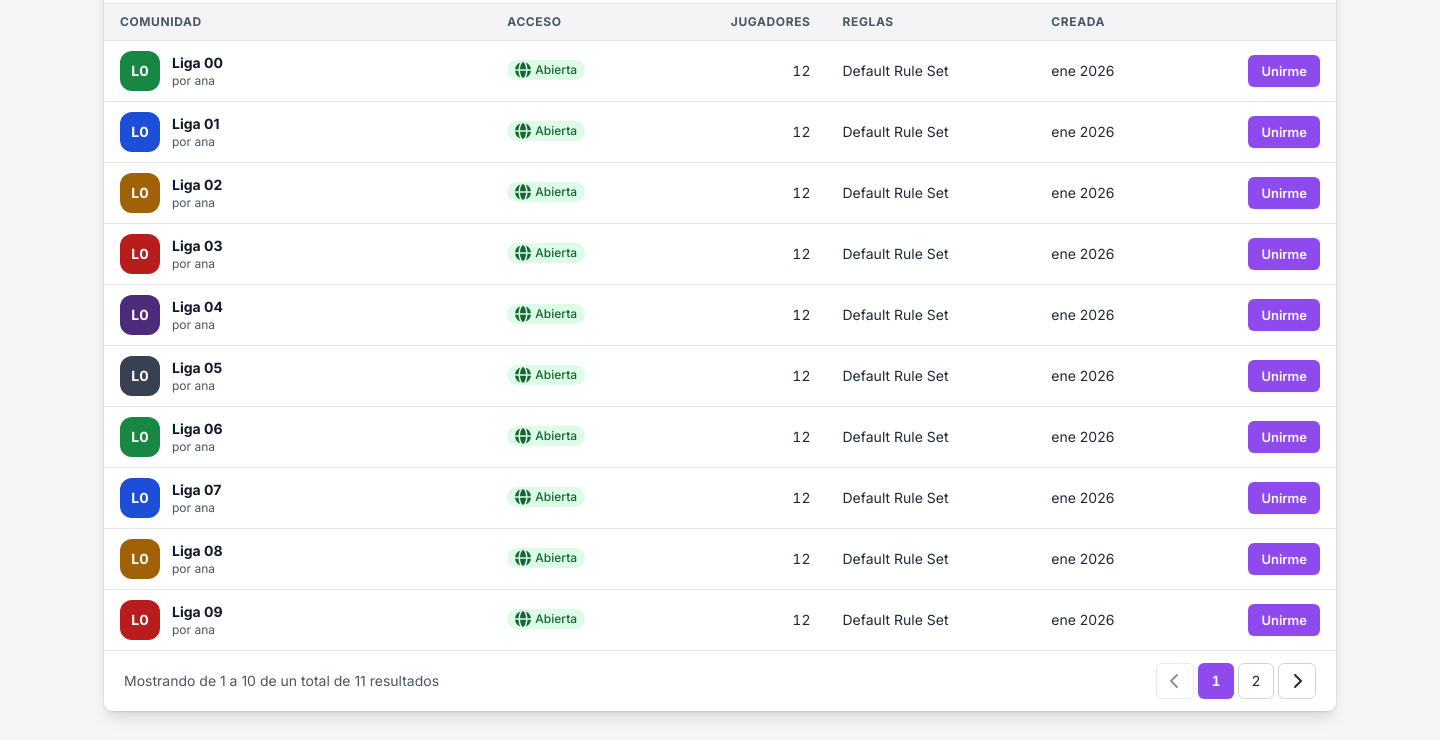
Explorar comunidades › paginates and sorts by name
The image size is (1440, 740).
(page scrolled)
Expected: the text "Mostrando de 1 a 10 de un total de 11 resultados" is shown, left=124, top=671, right=439, bottom=691
Click the button named "Siguiente" at (1297, 681), box left=1278, top=663, right=1316, bottom=699
(page scrolled)
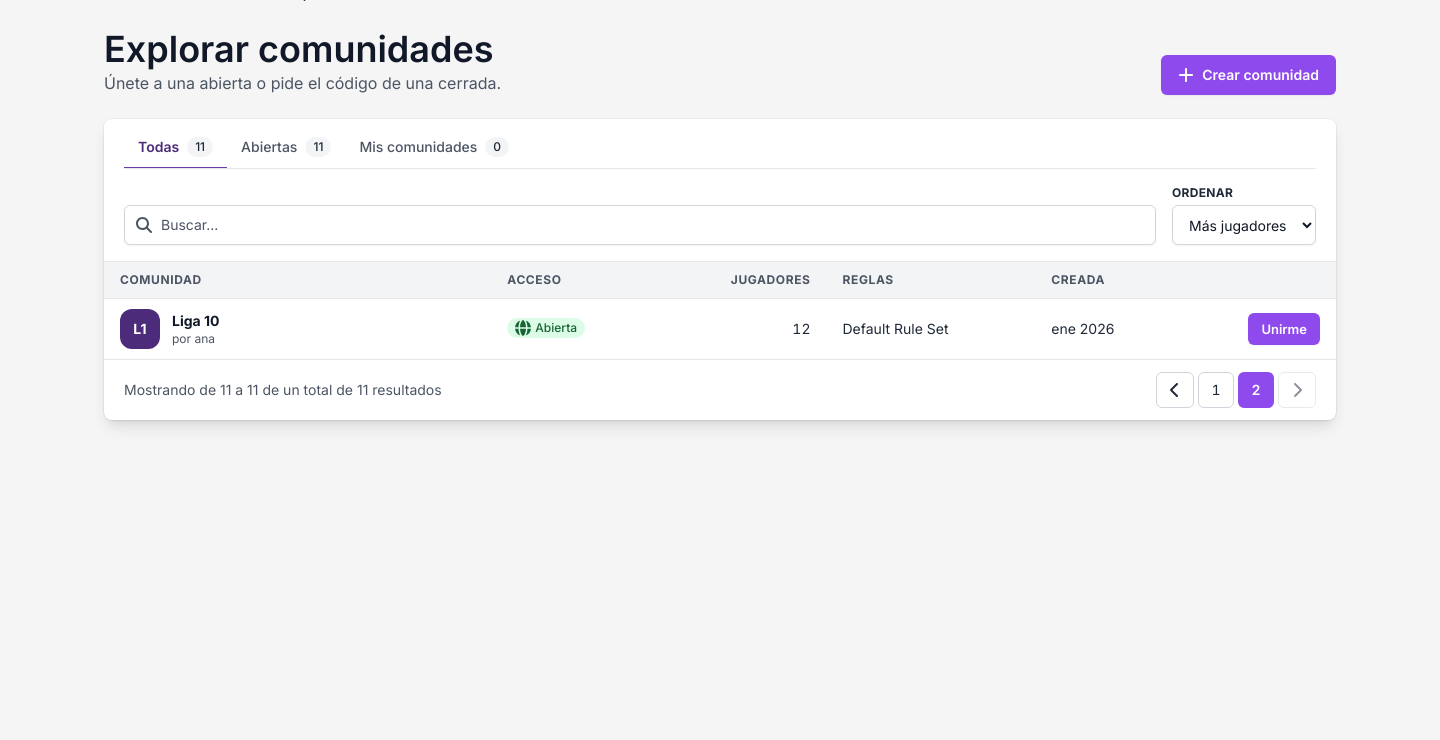
Result: the text "Mostrando de 11 a 11 de un total de 11 resultados" is shown at left=124, top=380, right=442, bottom=400
Select "Nombre (A-Z)" in the dropdown labelled "Ordenar" at (1244, 225), box left=1172, top=205, right=1316, bottom=245
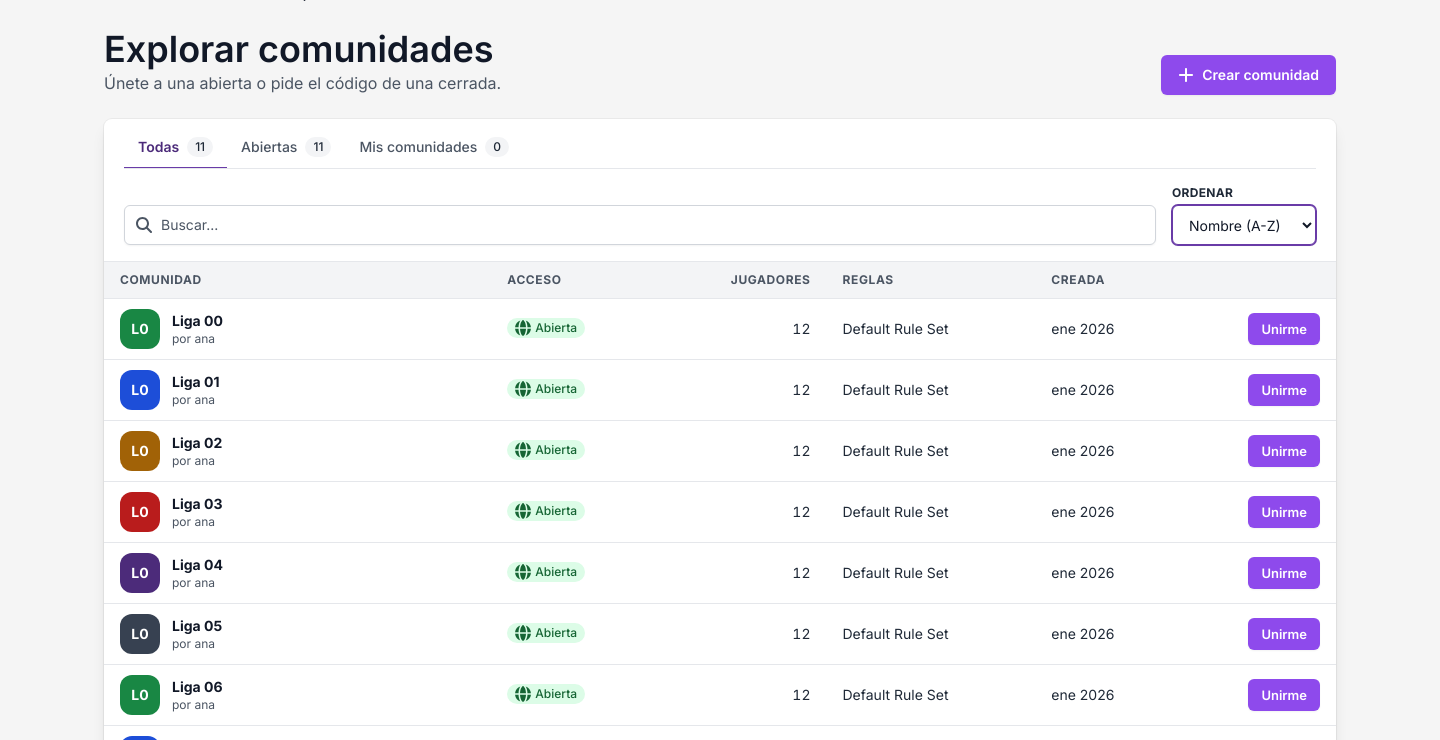
Result: the text "Liga 00" is shown at left=172, top=311, right=223, bottom=331
